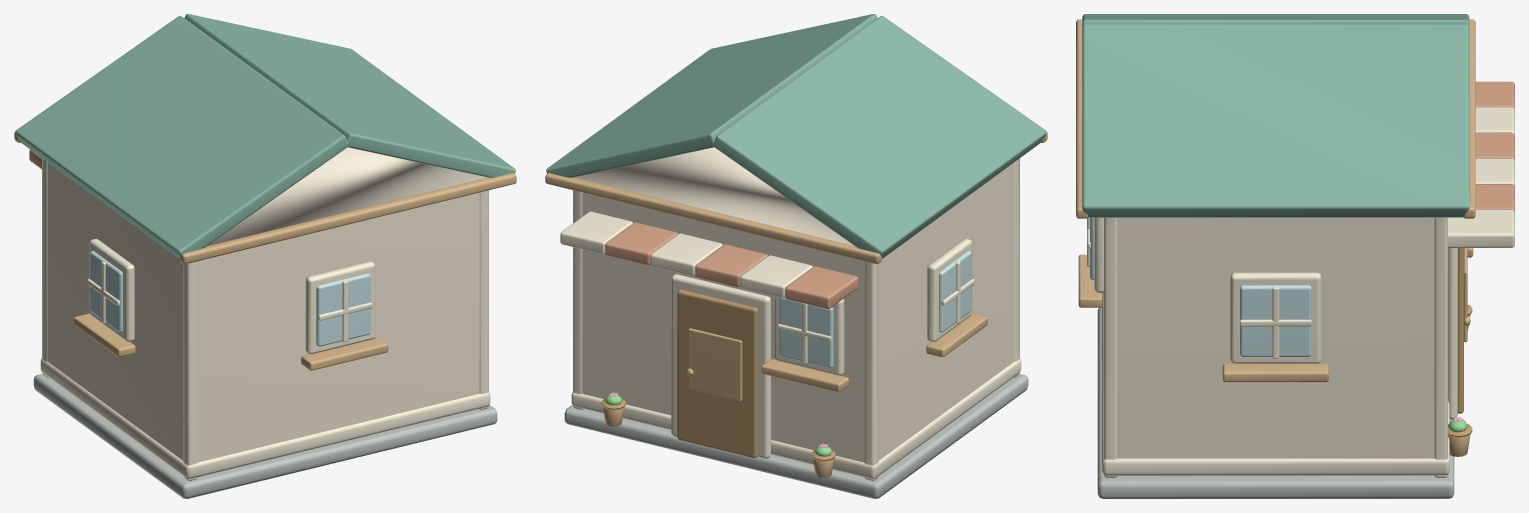
Rendered from shop.glb.
3 views of the same model, side by side, from view 1: azimuth 30°, elevation 25°; view 2: azimuth 150°, elevation 25°; view 3: azimuth 270°, elevation 25° (orthographic). The views are drawn at different scales.
Bounding box in the file's own units: 3.62 × 3.39 × 3.47.
